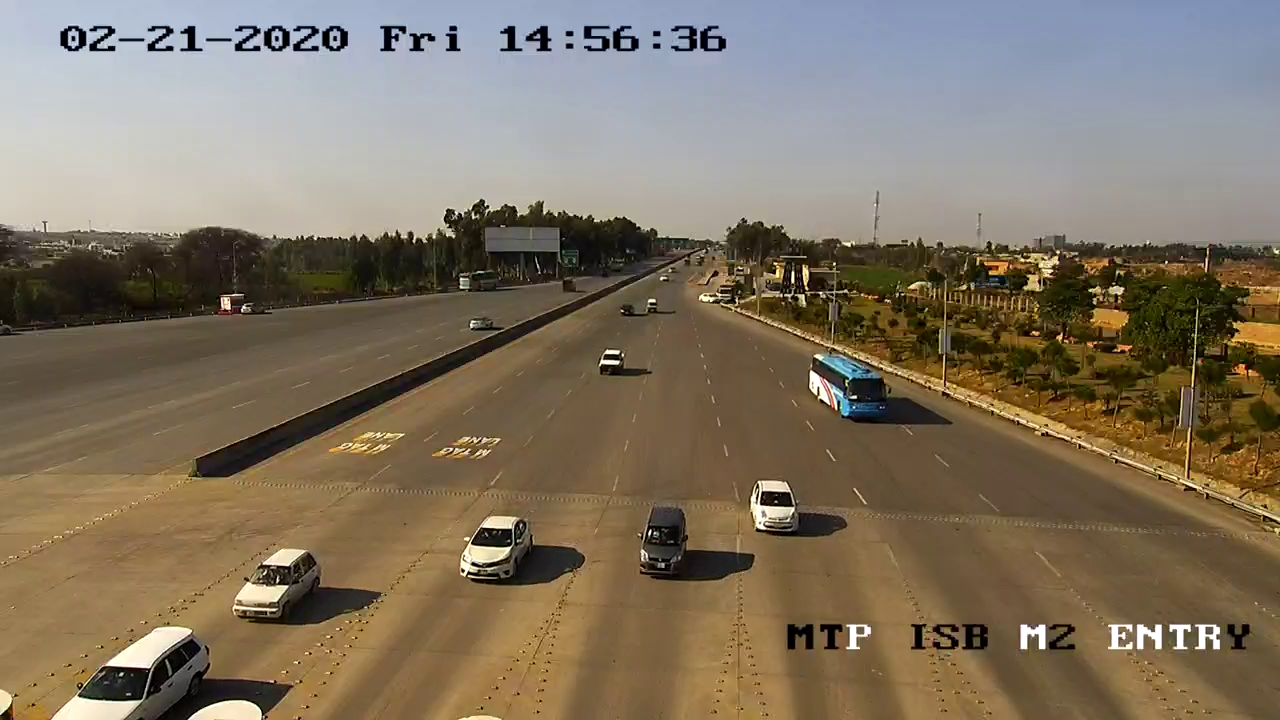f1: (220, 541, 329, 637), (437, 501, 547, 591), (621, 498, 712, 586), (740, 470, 809, 544), (592, 343, 634, 380)
f4: (799, 338, 900, 435)
